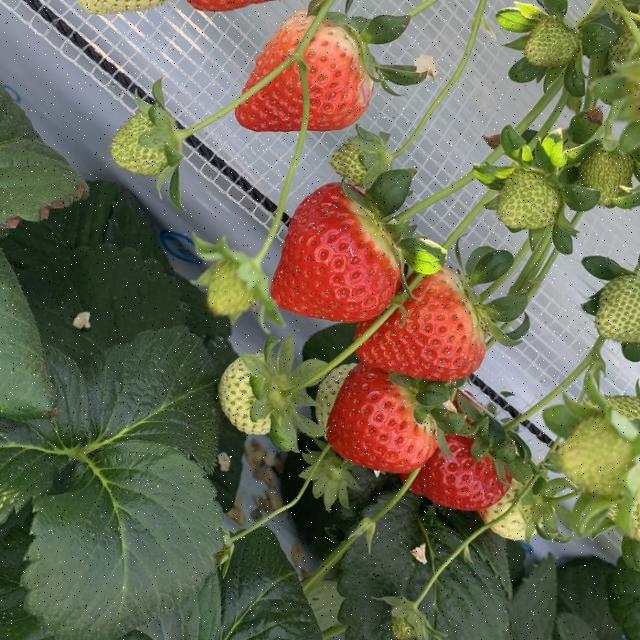Ripe Strawberry: (253, 184, 400, 320), (230, 18, 372, 141), (360, 285, 484, 385), (318, 371, 433, 477), (421, 438, 506, 512)
